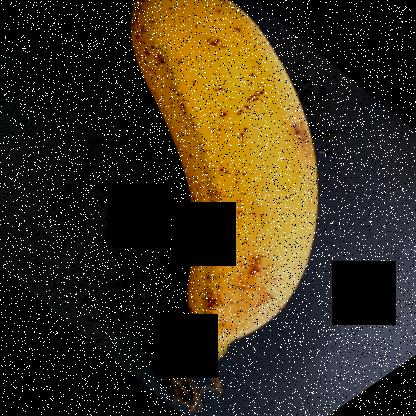ripe: (83, 0, 320, 348)
